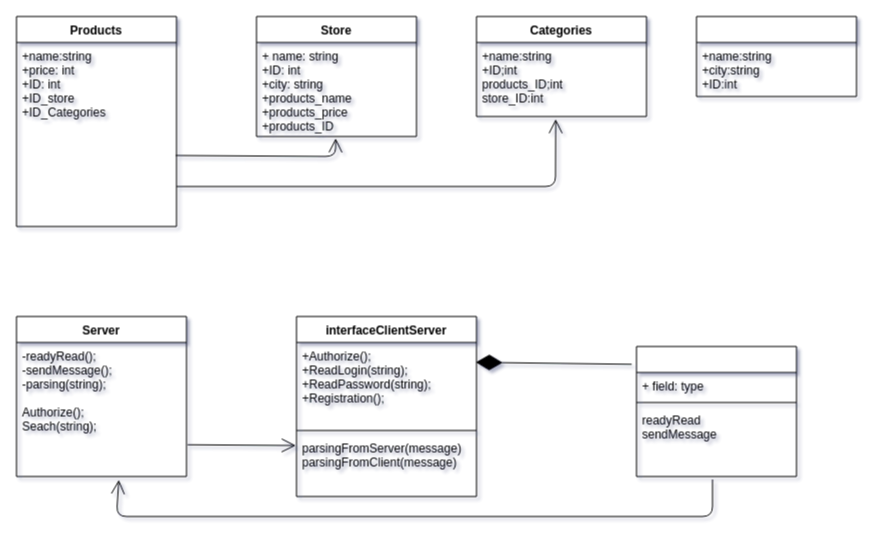
Image size: 873x533. Some labels were removed from this diagram. Each missing label, with the box of its shape:
Buyer: (696, 16, 856, 96)
Client: (636, 346, 796, 476)
